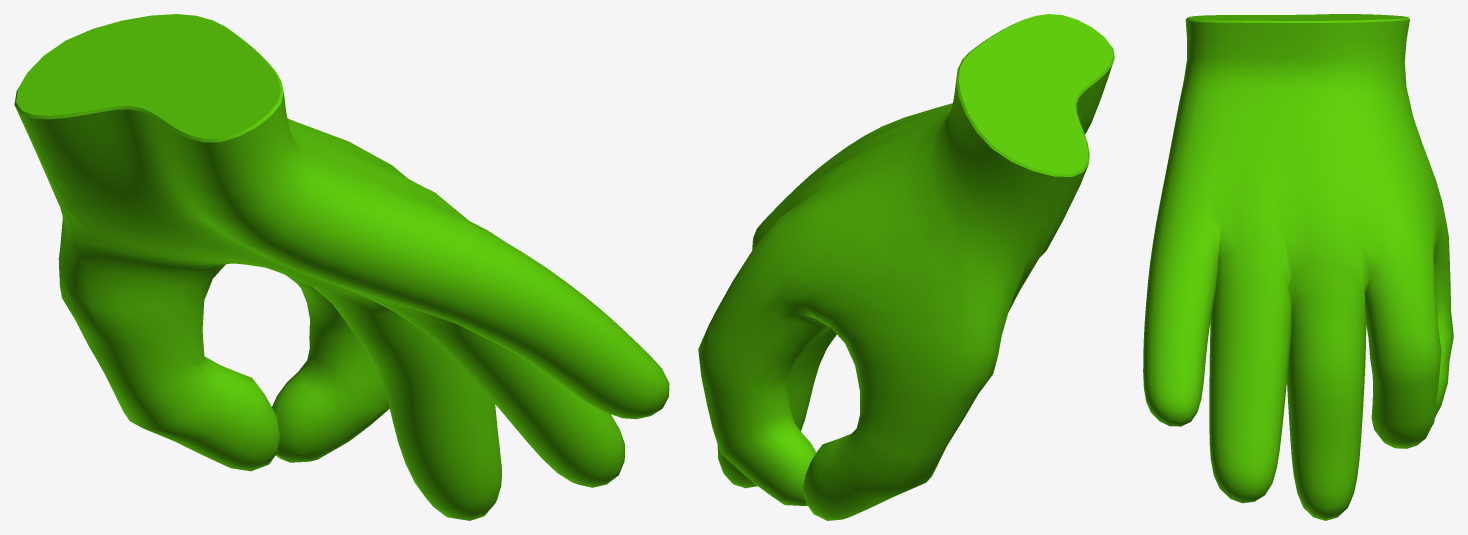
Rendered from Jussi_Hand_Mesh.fbx.
3 renders of one model, left to right at view 1: azimuth 30°, elevation 25°; view 2: azimuth 150°, elevation 25°; view 3: azimuth 270°, elevation 25°, orthographic. The views are drawn at different scales.
Parts seen in each view (by area): view 1: pCube8; view 2: pCube8; view 3: pCube8.
Boxes of the visible parts, x1,y1,x2,y2 form: pCube8: [14, 14, 669, 520]; pCube8: [698, 14, 1114, 520]; pCube8: [1143, 14, 1453, 520].
Size of the model in its own units: 91.16 by 94.64 by 65.32.
